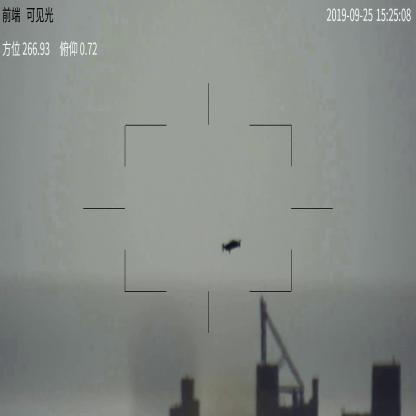uav: (221, 239, 245, 254)
